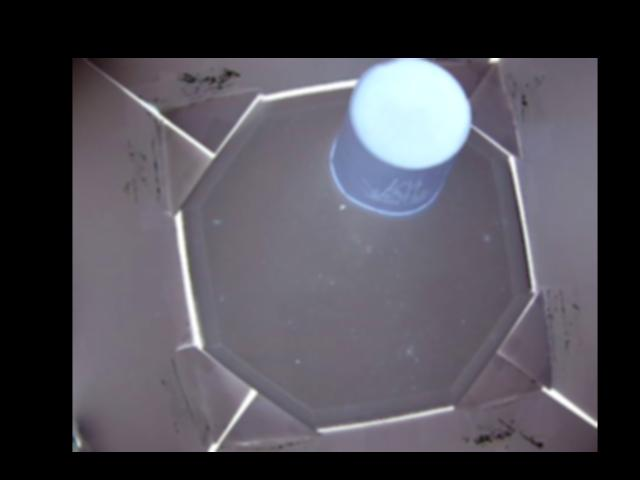Cup: (330, 60, 472, 217)
